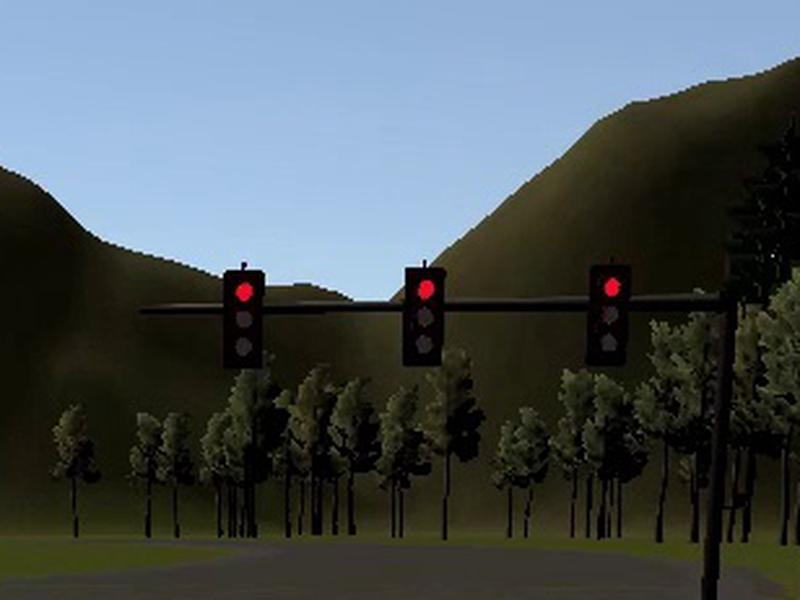Red: (587, 264, 632, 365), (223, 269, 266, 366), (403, 268, 445, 364)
